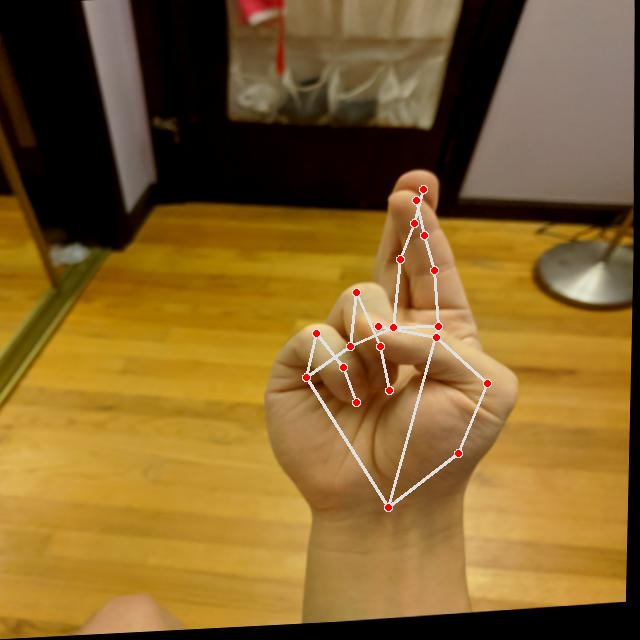R: (251, 162, 534, 537)
